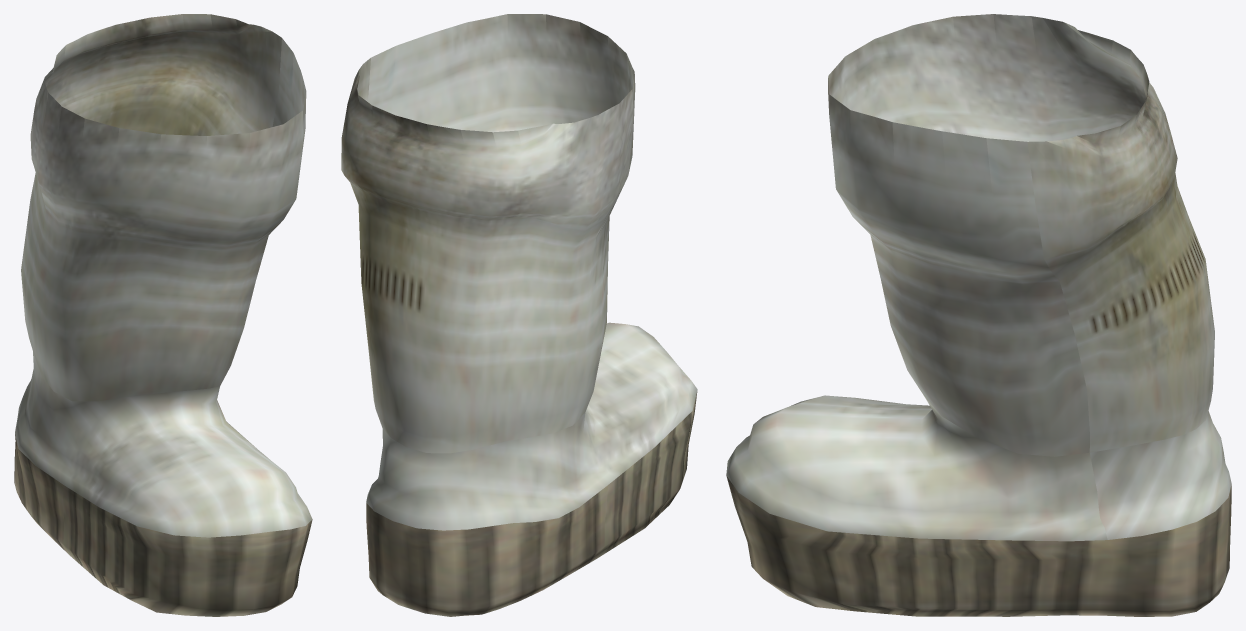
The model's file is Lfoot.obj.
3 views of the same model, side by side, from view 1: azimuth 30°, elevation 25°; view 2: azimuth 150°, elevation 25°; view 3: azimuth 270°, elevation 25° (orthographic). The views are drawn at different scales.
Parts seen in each view (by area): view 1: polySurface18 polySurface13 polySurface12 polySurface9 polySurfa; view 2: polySurface18 polySurface13 polySurface12 polySurface9 polySurfa; view 3: polySurface18 polySurface13 polySurface12 polySurface9 polySurfa.
Part boxes in pixels (x1,y1,x2,y2): polySurface18 polySurface13 polySurface12 polySurface9 polySurfa: (14,14,312,616); polySurface18 polySurface13 polySurface12 polySurface9 polySurfa: (341,14,697,616); polySurface18 polySurface13 polySurface12 polySurface9 polySurfa: (726,14,1231,616).
Bounding box in the file's own units: 0.5037 × 0.9435 × 0.8321.
1 material, 1 textured.
